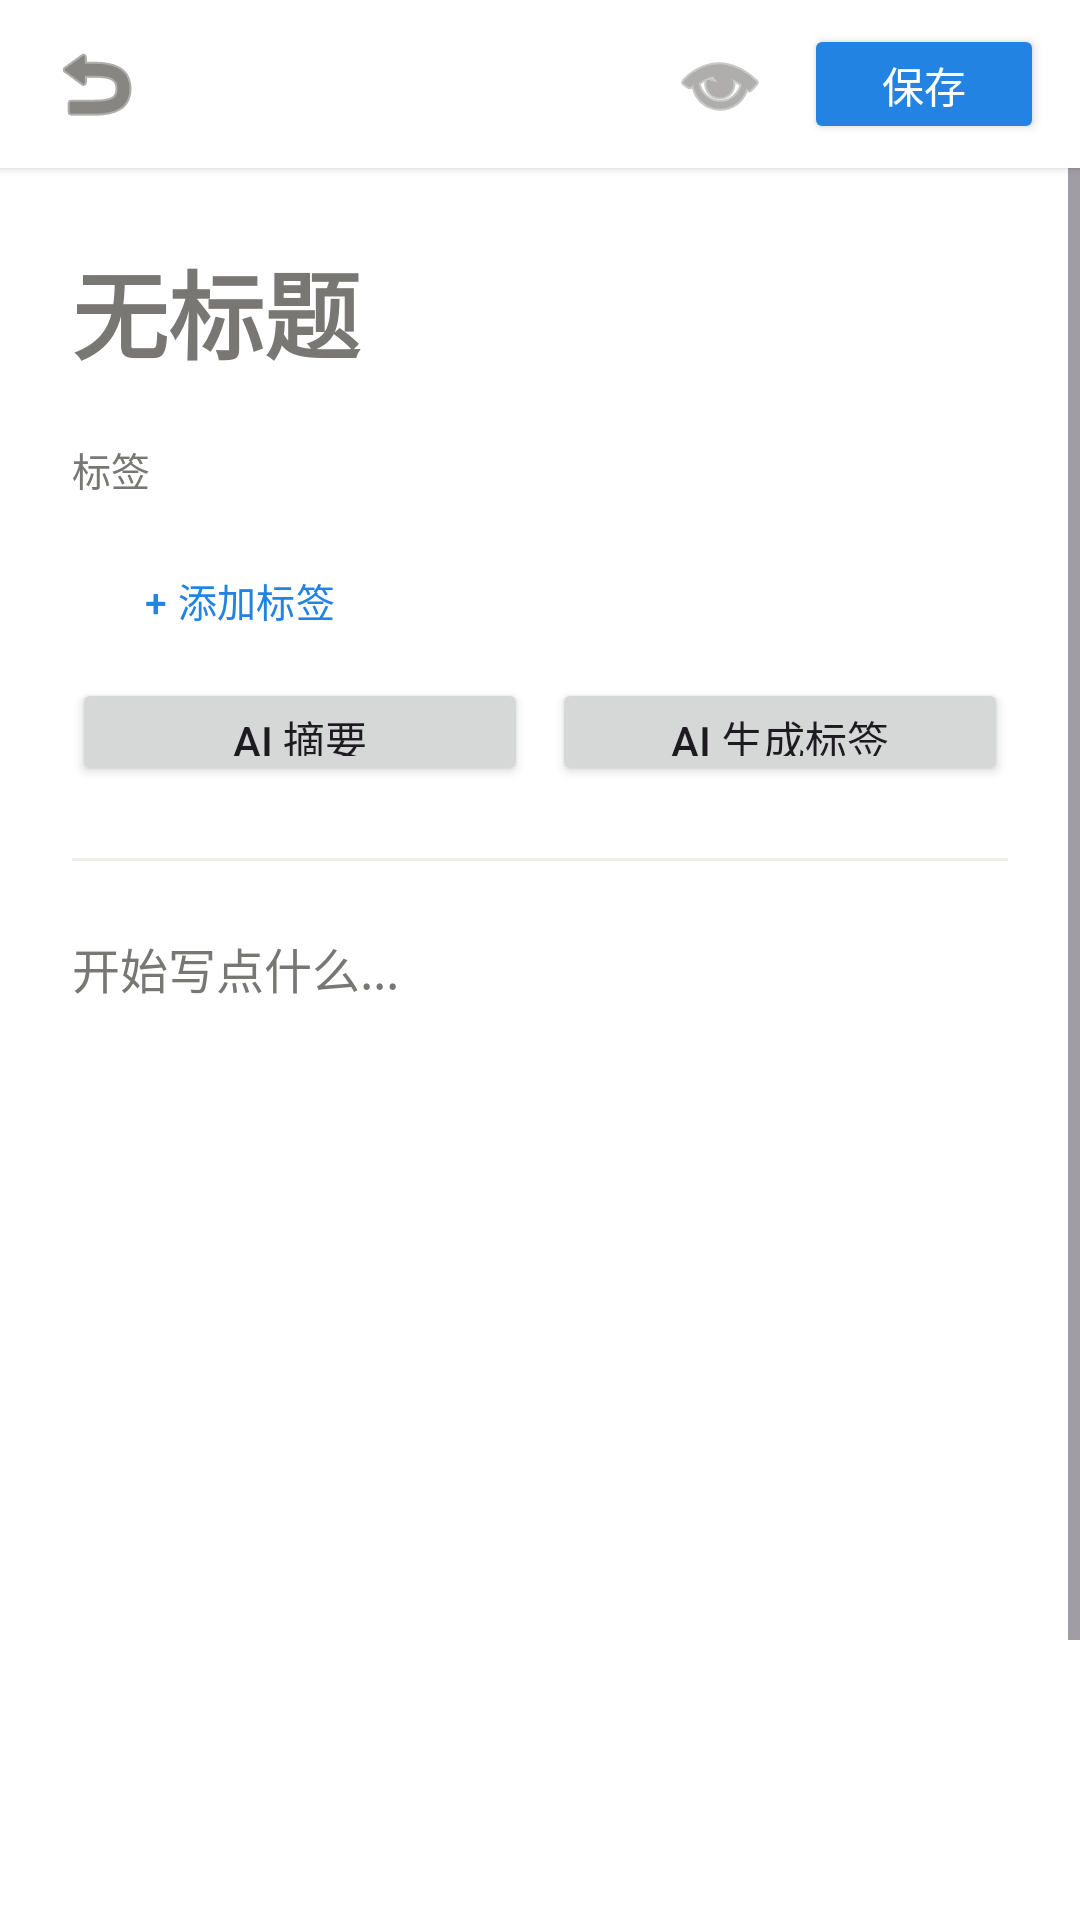

Named icons in this screenshot (1080x1920) and their centers, [x,y]:
返回: [97,84]
预览: [720,86]
